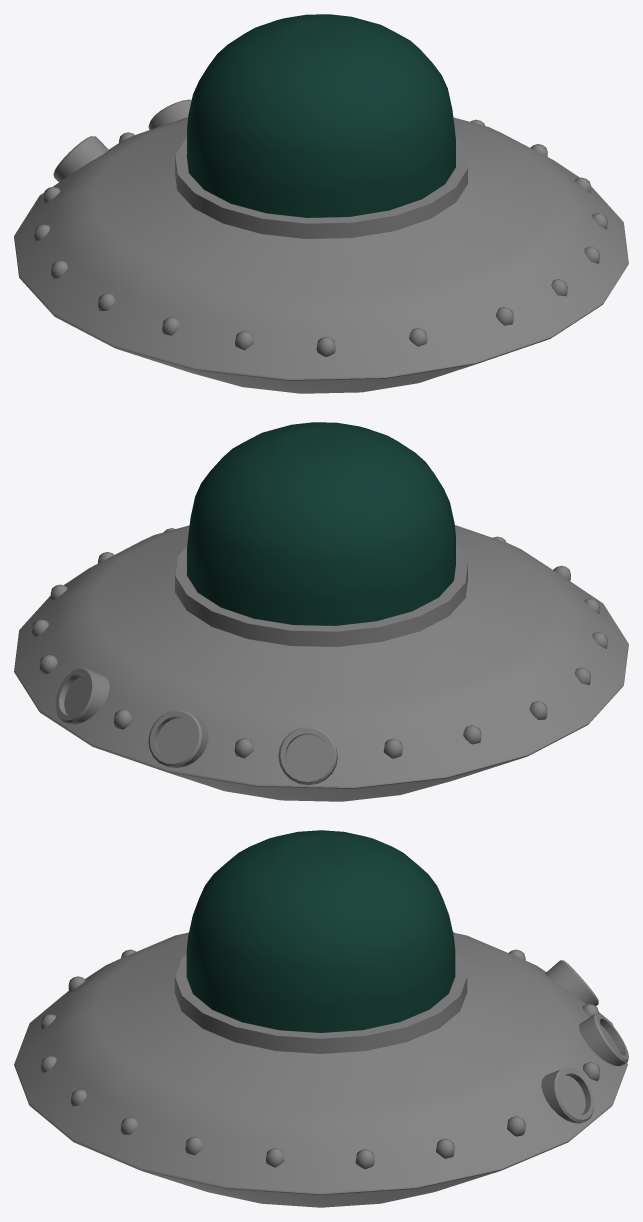
The model's file is enemy 1 finished.obj.
3 renders of one model, top to bottom at view 1: azimuth 30°, elevation 25°; view 2: azimuth 150°, elevation 25°; view 3: azimuth 270°, elevation 25°, orthographic.
Visible parts, largest first — view 1: ufo_ufo, pCylinder3, pCylinder2; view 2: ufo_ufo, pCylinder3, pCylinder2, pCylinder4; view 3: ufo_ufo, pCylinder4, pCylinder2, pCylinder3.
Part boxes in pixels (bbox=[...]): ufo_ufo: bbox=[14, 14, 628, 393]; pCylinder3: bbox=[53, 136, 108, 182]; pCylinder2: bbox=[148, 99, 191, 129]; ufo_ufo: bbox=[14, 422, 628, 801]; pCylinder3: bbox=[278, 726, 337, 785]; pCylinder2: bbox=[148, 710, 208, 767]; pCylinder4: bbox=[55, 667, 109, 724]; ufo_ufo: bbox=[14, 830, 627, 1207]; pCylinder4: bbox=[541, 1067, 594, 1123]; pCylinder2: bbox=[579, 1013, 628, 1066]; pCylinder3: bbox=[545, 960, 598, 1005].
Bounding box in the file's own units: 13.4 × 7.58 × 13.42.
